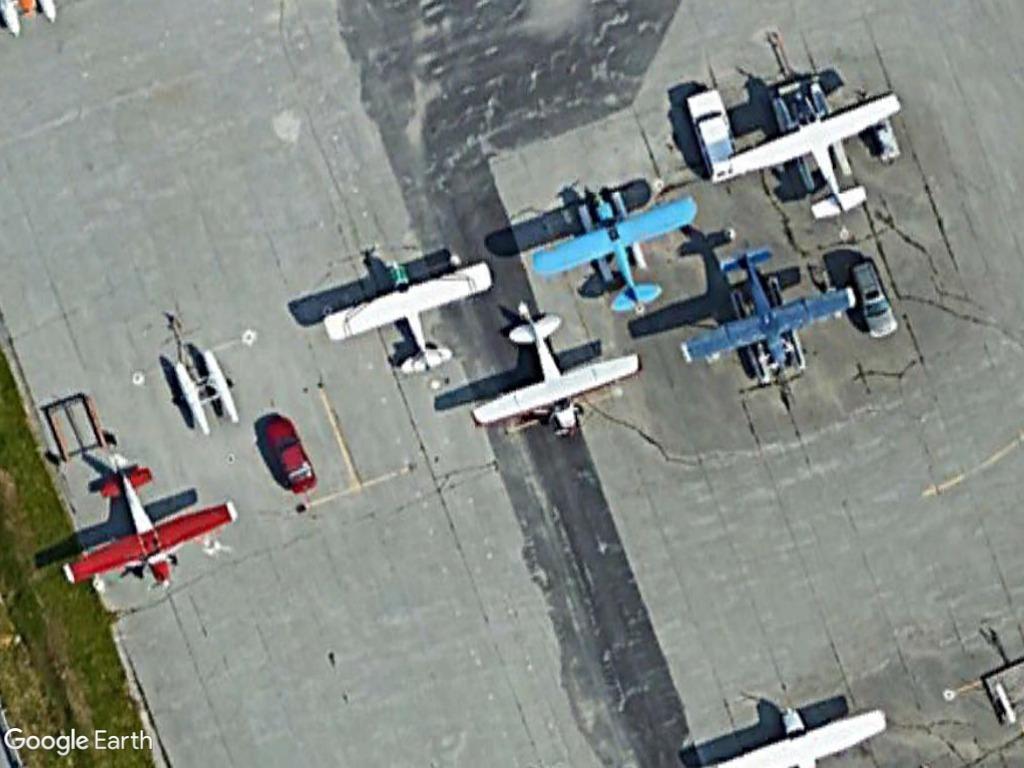car: (262, 410, 321, 496), (849, 256, 899, 342)
trainer: (47, 457, 246, 602), (673, 242, 855, 384), (458, 308, 647, 437), (727, 86, 907, 221), (317, 251, 496, 382), (528, 191, 699, 313)
